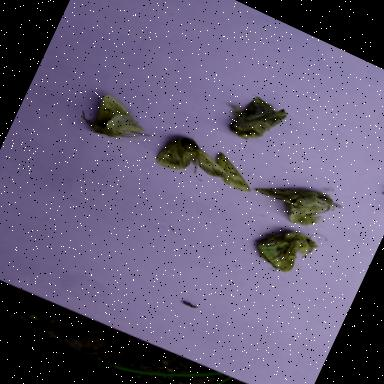abw: (248, 158, 348, 240), (248, 210, 328, 286), (76, 87, 160, 155), (152, 128, 234, 192), (226, 91, 288, 152)
